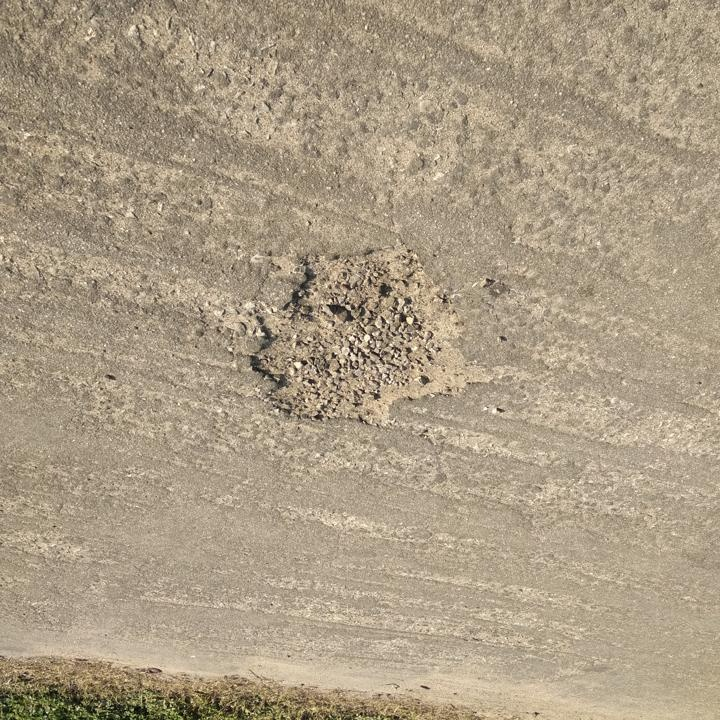pothole: (245, 241, 498, 429)
